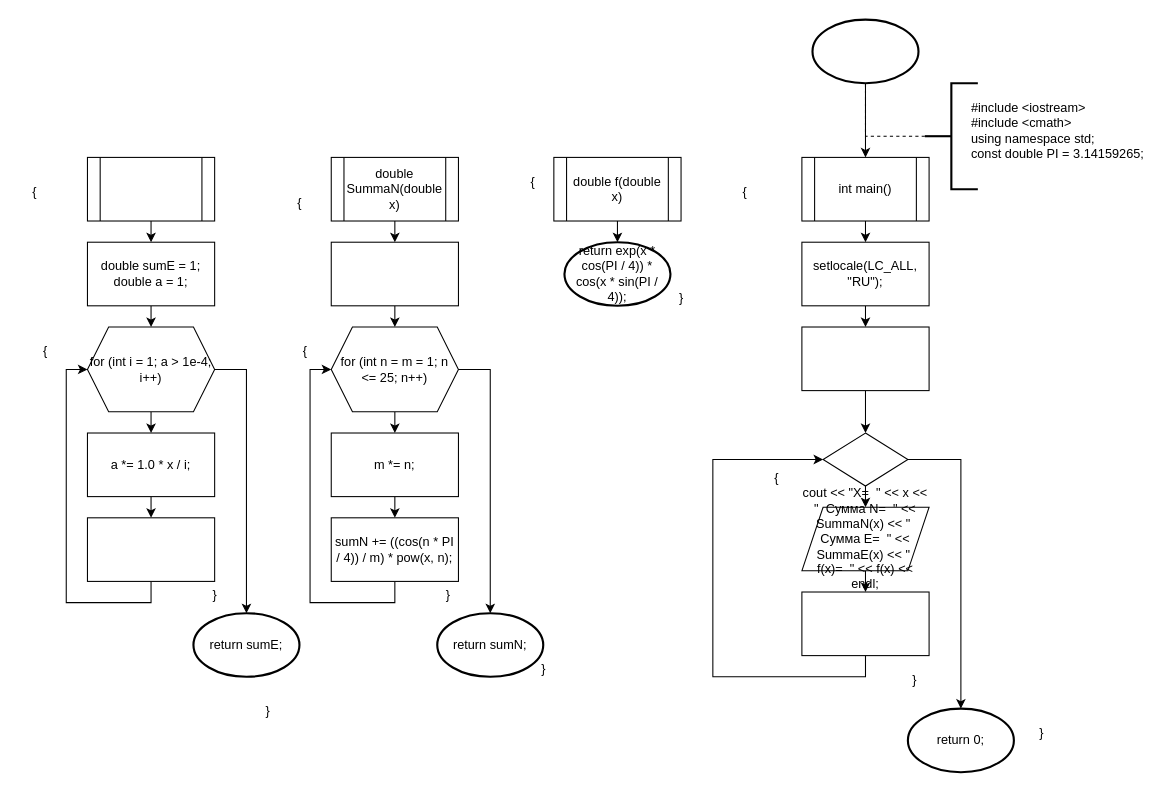
Some shapes in this 1176 by 791 pixel diagram are drawn without their labels. The shapes that lost their labels are listed below. From the top down, each one's centre as x and y in pixels, then its label:
the point at 865,51: Начало
the point at 150,188: double SummaE(double x)
the point at 394,273: int m; double sumN = 1;
the point at 865,358: double x, a, b, sumE, k; int m; a = 0.1; b = 1; k = 10; x = 0.1;
the point at 865,459: while (x <= b)
the point at 150,549: sumE += (cos(i * PI / 4)) * a;
the point at 865,623: x += (b - a) / k;
